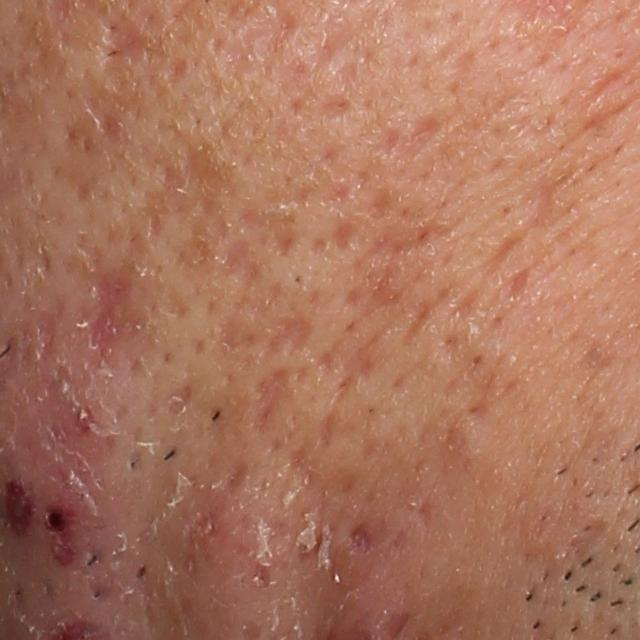atrophic_scar: (145, 143, 239, 282), (77, 266, 142, 372), (245, 364, 300, 438), (339, 329, 395, 400), (403, 278, 458, 345), (242, 202, 302, 259), (256, 310, 317, 360), (378, 114, 440, 163), (484, 225, 530, 275), (324, 213, 357, 257), (158, 57, 192, 94), (316, 95, 354, 125), (369, 187, 397, 220), (506, 268, 529, 302)
